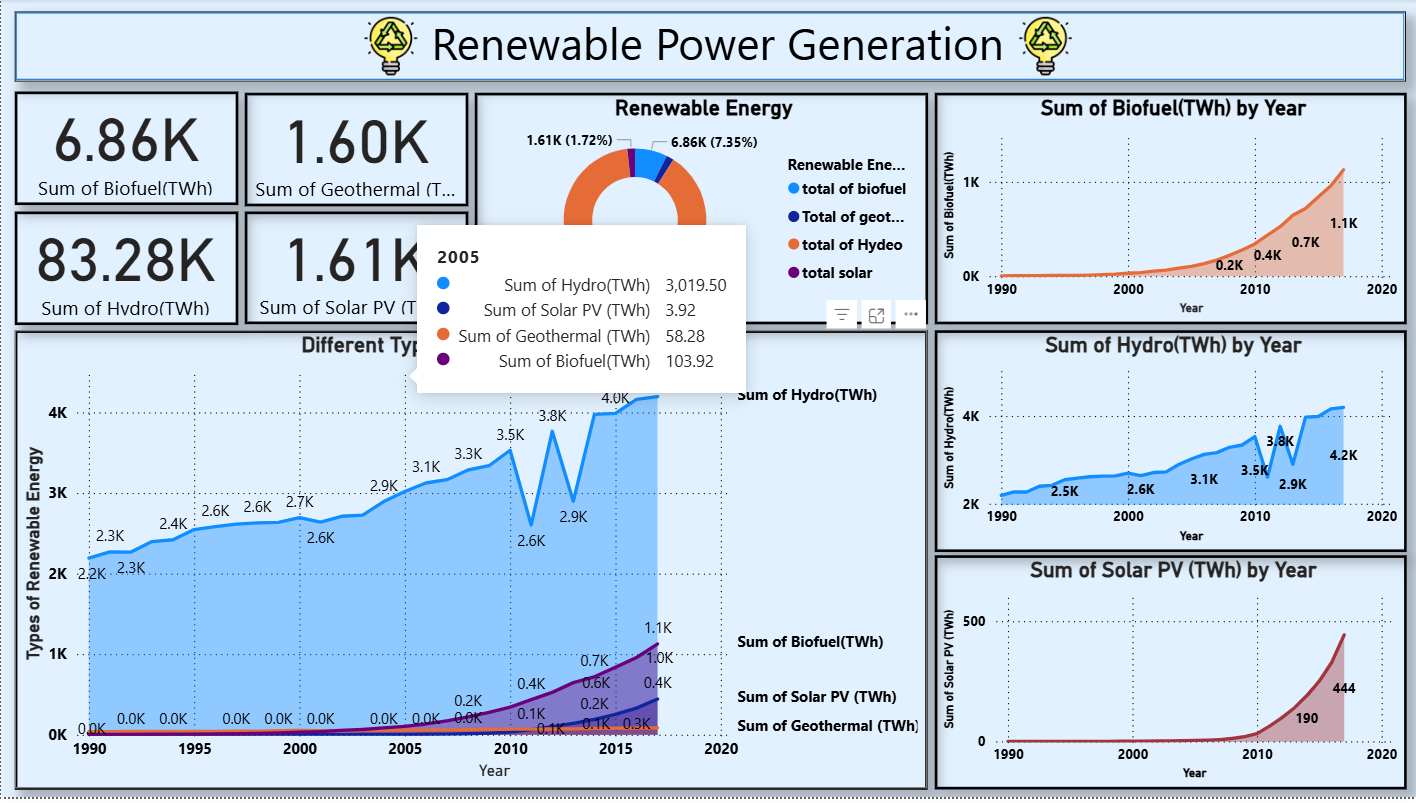

This screenshot's page, from the dashboard's own definition file:
{"tool":"powerbi","page":{"name":"Renewable Dashboard ","canvas":[1280,720],"ordinal":1},"visuals":[{"type":"shape","box":[12.9,11.4,1254.3,62.9],"z":0},{"type":"card","fields":{"Values":["Sum(renewablePowerGeneration97-17.Biofuel(TWh))"]},"box":[12.5,83.8,201.2,102.5],"z":1000},{"type":"card","fields":{"Values":["Sum(renewablePowerGeneration97-17.Geothermal (TWh))"]},"box":[220,84,201.2,102.5],"z":2000},{"type":"card","fields":{"Values":["Sum(renewablePowerGeneration97-17.Hydro(TWh))"]},"box":[12.5,192,201.2,102.5],"z":3000},{"type":"card","fields":{"Values":["Sum(renewablePowerGeneration97-17.Solar PV (TWh))"]},"box":[220,191.4,201.4,101.4],"z":4000},{"type":"image","box":[310,11.4,82.9,62.9],"z":5000},{"type":"image","box":[900,11.4,84.3,62.9],"z":6000},{"type":"stackedAreaChart","fields":{"Category":["renewablePowerGeneration97-17.Year"],"Y":["Sum(renewablePowerGeneration97-17.Biofuel(TWh))"]},"box":[841.4,84.3,425.7,209],"z":7000},{"type":"donutChart","title":"Renewable Energy ","fields":{"Y":["renewablePowerGeneration97-17.total of biofuel","renewablePowerGeneration97-17.Total of geothermal","renewablePowerGeneration97-17.total of Hydeo","renewablePowerGeneration97-17.total solar"]},"box":[427.1,84.3,408.6,209],"z":8000},{"type":"lineChart","title":"Different Types Renewable Energies ","fields":{"Category":["renewablePowerGeneration97-17.Year"],"Y":["Sum(renewablePowerGeneration97-17.Hydro(TWh))","Sum(renewablePowerGeneration97-17.Solar PV (TWh))","Sum(renewablePowerGeneration97-17.Geothermal (TWh))","Sum(renewablePowerGeneration97-17.Biofuel(TWh))"]},"box":[12.9,298.6,822.9,414.3],"z":9000},{"type":"stackedAreaChart","fields":{"Y":["Sum(renewablePowerGeneration97-17.Hydro(TWh))"],"Category":["renewablePowerGeneration97-17.Year"]},"box":[841.4,298.6,425.7,200],"z":10000},{"type":"stackedAreaChart","fields":{"Category":["renewablePowerGeneration97-17.Year"],"Y":["Sum(renewablePowerGeneration97-17.Solar PV (TWh))"]},"box":[841.4,501.4,425.7,211.4],"z":11000}]}

Visuals, with their boxes in screenshot pixels (x1, y1, x2, y2), scaled from the page's 1280x720 canvas onto the 1416x803 screenshot:
shape: rect(14, 13, 1402, 83)
card - Sum(renewablePowerGeneration97-17.Biofuel(TWh)): rect(14, 93, 236, 208)
card - Sum(renewablePowerGeneration97-17.Geothermal (TWh)): rect(243, 94, 466, 208)
card - Sum(renewablePowerGeneration97-17.Hydro(TWh)): rect(14, 214, 236, 328)
card - Sum(renewablePowerGeneration97-17.Solar PV (TWh)): rect(243, 213, 466, 327)
image: rect(343, 13, 435, 83)
image: rect(996, 13, 1089, 83)
stackedAreaChart - renewablePowerGeneration97-17.Year x Sum(renewablePowerGeneration97-17.Biofuel(TWh)): rect(931, 94, 1402, 327)
"Renewable Energy " donutChart: rect(472, 94, 924, 327)
"Different Types Renewable Energies " lineChart: rect(14, 333, 925, 795)
stackedAreaChart - Sum(renewablePowerGeneration97-17.Hydro(TWh)) x renewablePowerGeneration97-17.Year: rect(931, 333, 1402, 556)
stackedAreaChart - renewablePowerGeneration97-17.Year x Sum(renewablePowerGeneration97-17.Solar PV (TWh)): rect(931, 559, 1402, 795)
